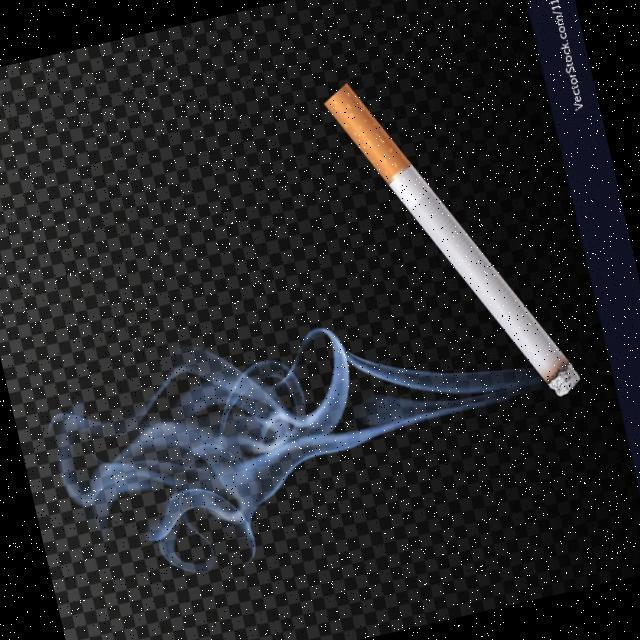cigarette: (306, 33, 600, 442)
